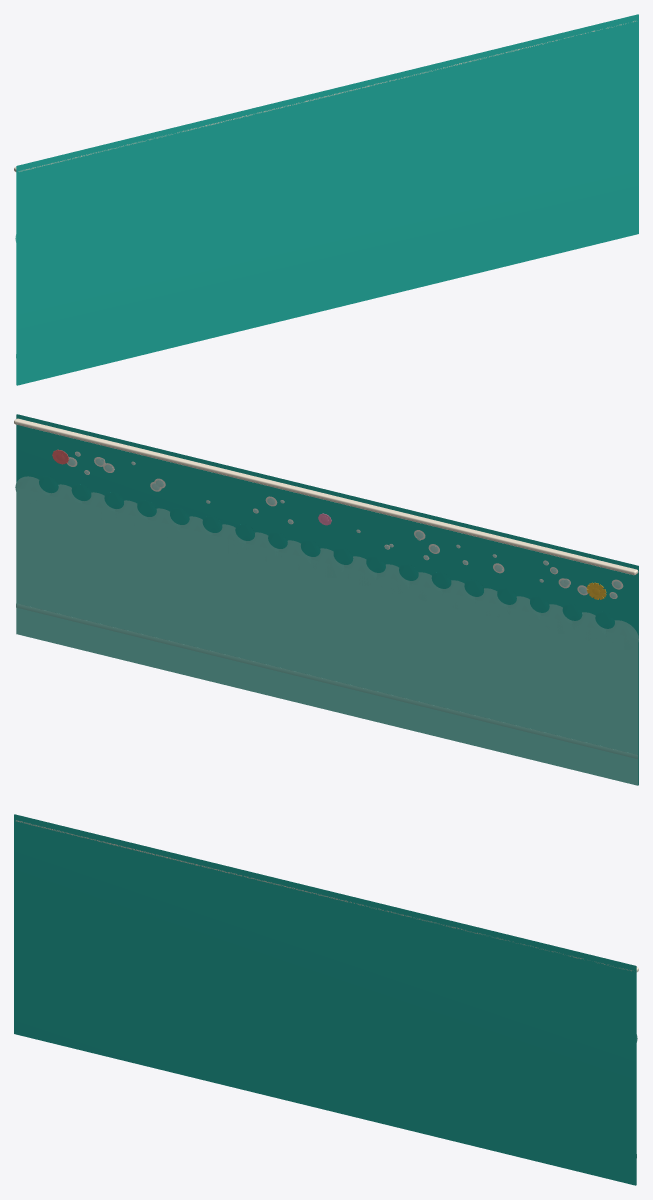
Rendered from FeatureWall.fbx.
3 renders of one model, top to bottom at view 1: azimuth 30°, elevation 25°; view 2: azimuth 150°, elevation 25°; view 3: azimuth 330°, elevation 25°, orthographic.
Parts seen in each view (by area): view 1: FeatureWall mesh; view 2: FeatureWall mesh; view 3: FeatureWall mesh.
Boxes of the visible parts, left/top/right/bottom form: FeatureWall mesh: left=14, top=14, right=638, bottom=385; FeatureWall mesh: left=14, top=414, right=638, bottom=785; FeatureWall mesh: left=14, top=814, right=638, bottom=1185.
Bounding box in the file's own units: 9.53 × 3.2 × 0.1.
